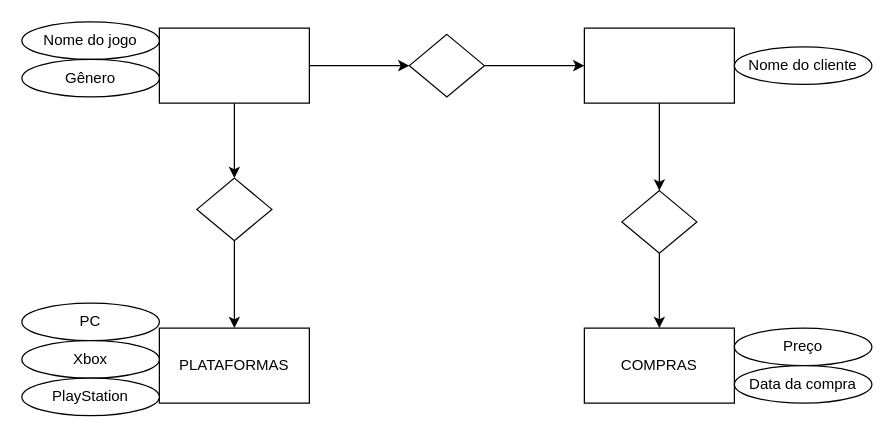
The diagram is 894 pixels wide and 438 high, and some of its shapes have lost their labels. The shapes that lost their labels are listed below. From the top down, each one's centre as x and y in pixels, then its label:
At pixel 233 65: "JOGOS".
At pixel 658 65: "CLIENTES".
